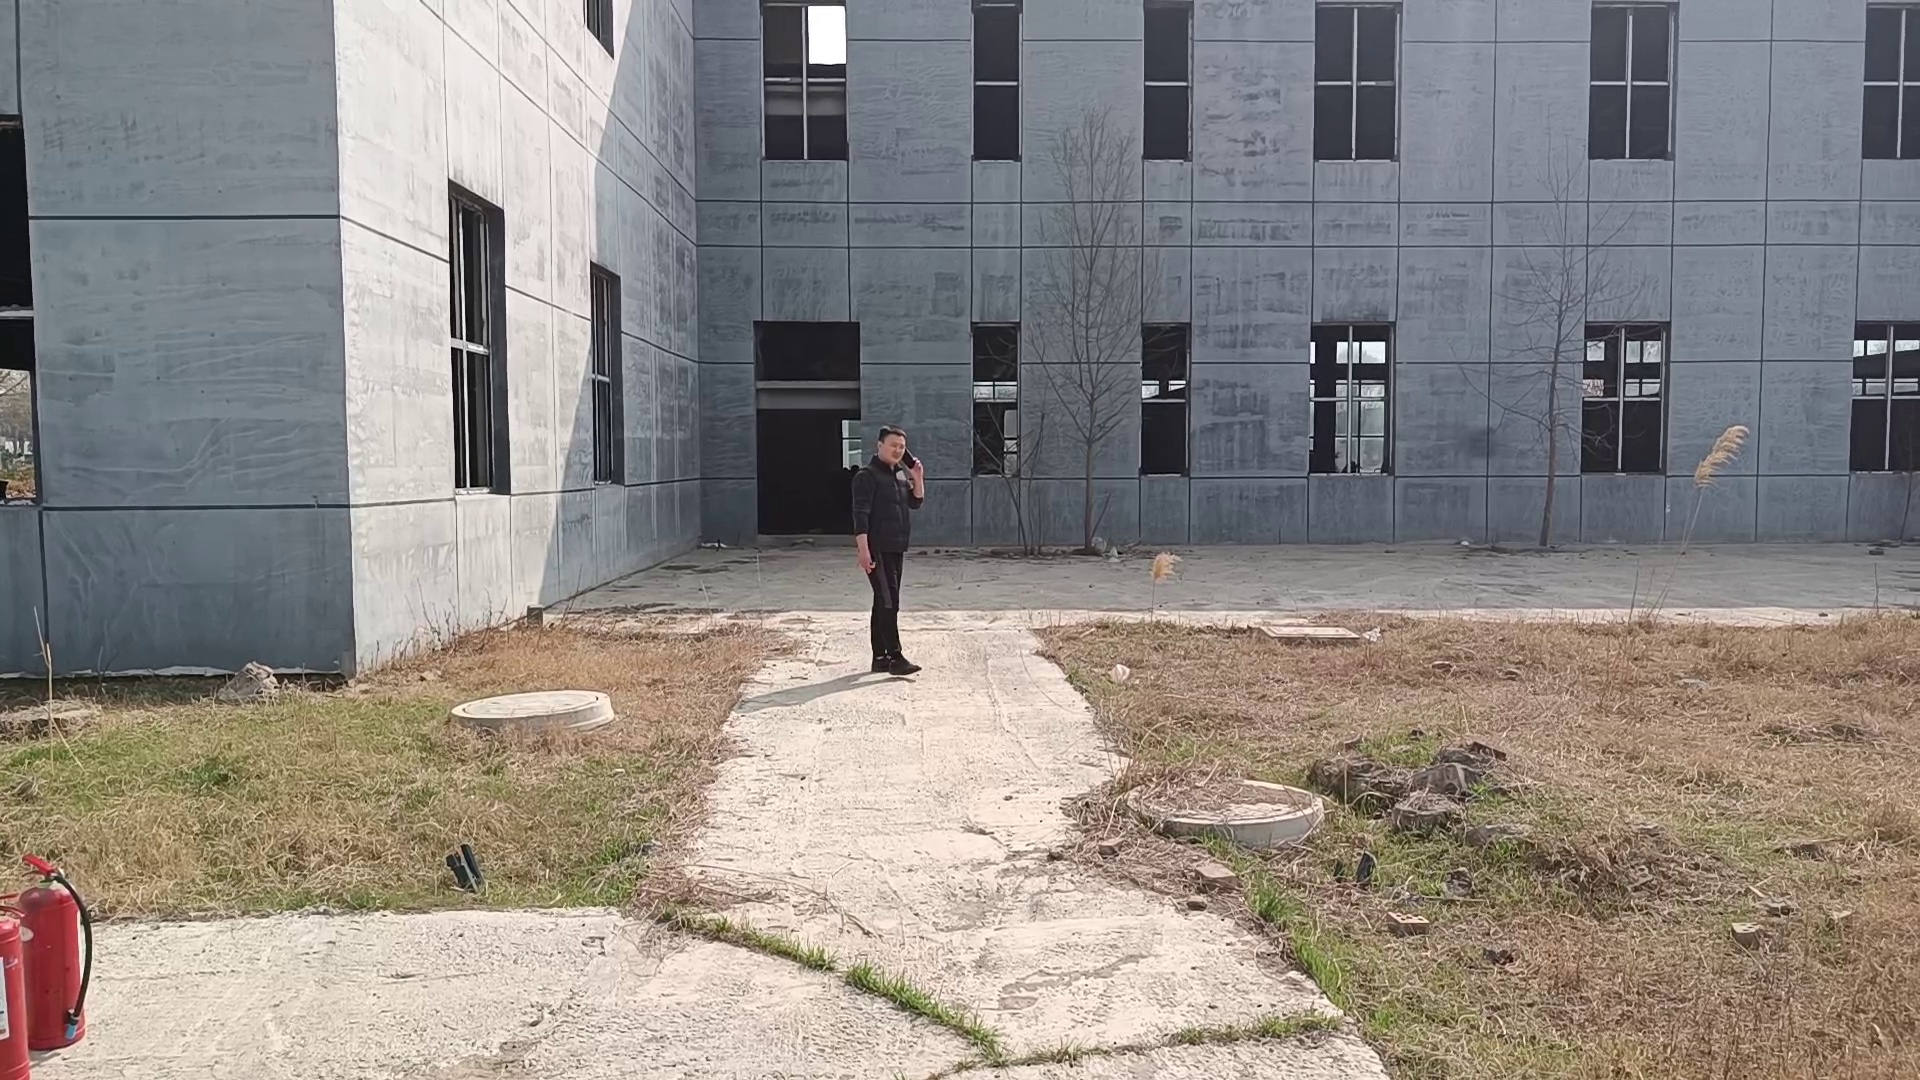phone: (862, 421, 924, 479)
